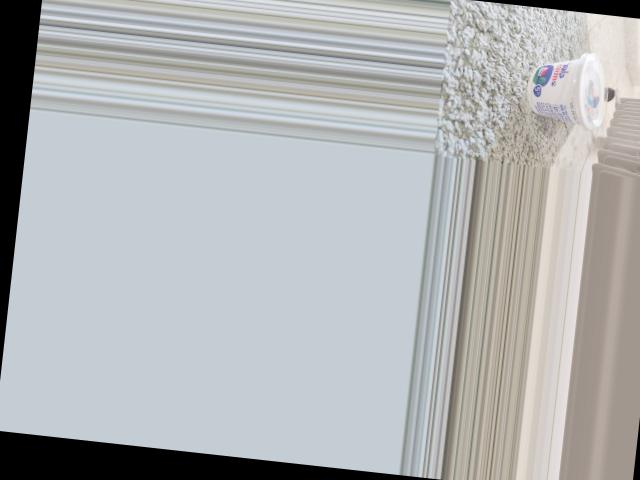cotage: (521, 50, 612, 127)
